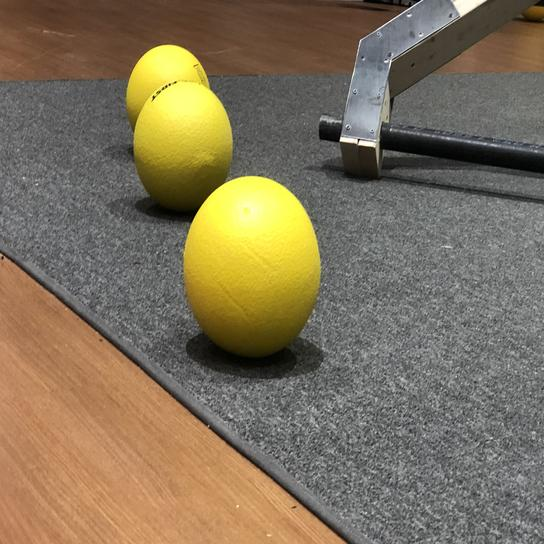ball: (181, 174, 326, 361), (128, 79, 239, 215)
